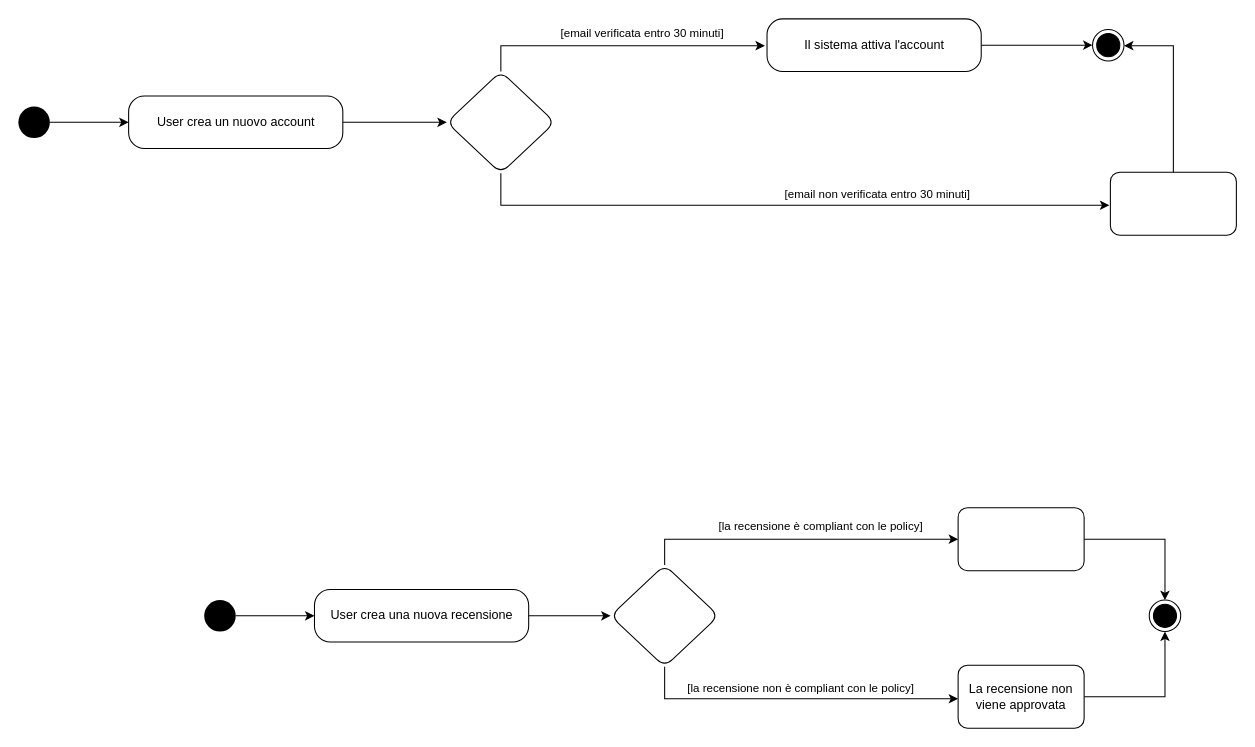
This 1255x747 diagram has some shape labels left out. The shapes that lost their labels are listed below. From the top down, each one's box as (x1, y1, x2, y2) in pixels, then its label:
(1109, 171, 1236, 235): Il sistema cancella l'account
(957, 507, 1084, 571): La recensione viene approvata
